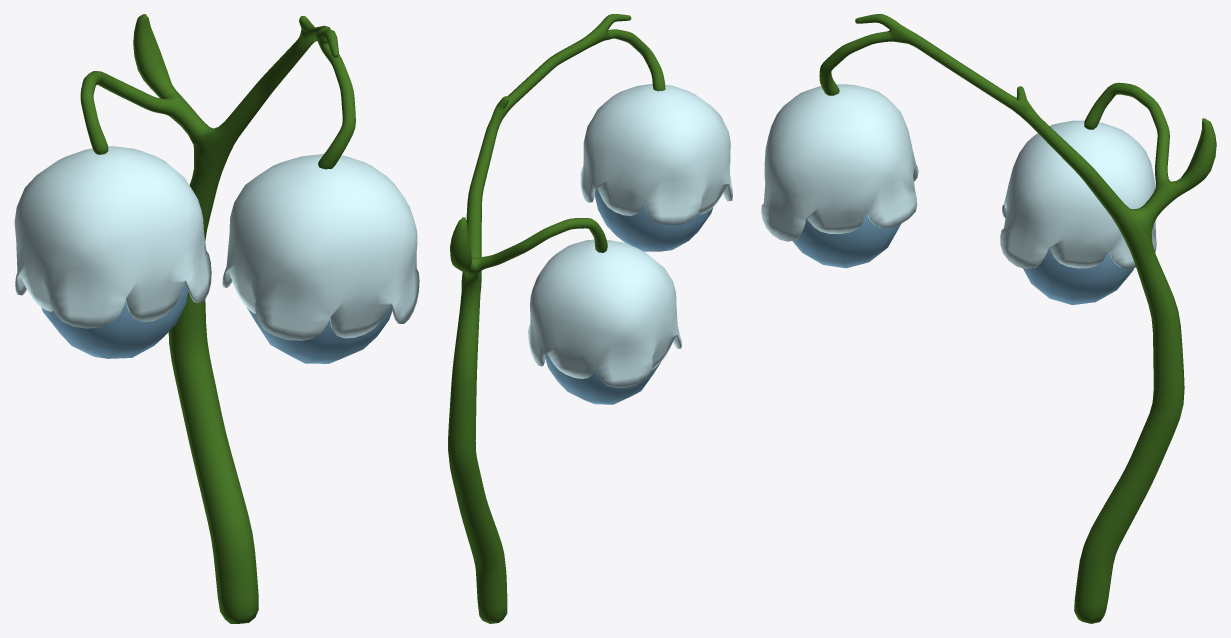
File: TearPlant.fbx
3 views of the same model, side by side, from view 1: azimuth 30°, elevation 25°; view 2: azimuth 150°, elevation 25°; view 3: azimuth 270°, elevation 25° (orthographic). The views are drawn at different scales.
Visible parts, largest first — view 1: Tear2, Tear1, TearSteam; view 2: Tear1, Tear2, TearSteam; view 3: TearSteam, Tear1, Tear2.
Part boxes in pixels (box(x1,y1,x2,y2)): Tear2: box(14, 146, 211, 358); Tear1: box(222, 154, 419, 363); TearSteam: box(80, 14, 355, 623); Tear1: box(580, 84, 732, 251); Tear2: box(528, 239, 681, 404); TearSteam: box(448, 14, 665, 623); TearSteam: box(819, 14, 1216, 623); Tear1: box(761, 84, 918, 268); Tear2: box(1000, 120, 1156, 305).
Bounding box in the file's own units: 1.17 × 3.07 × 2.13.
